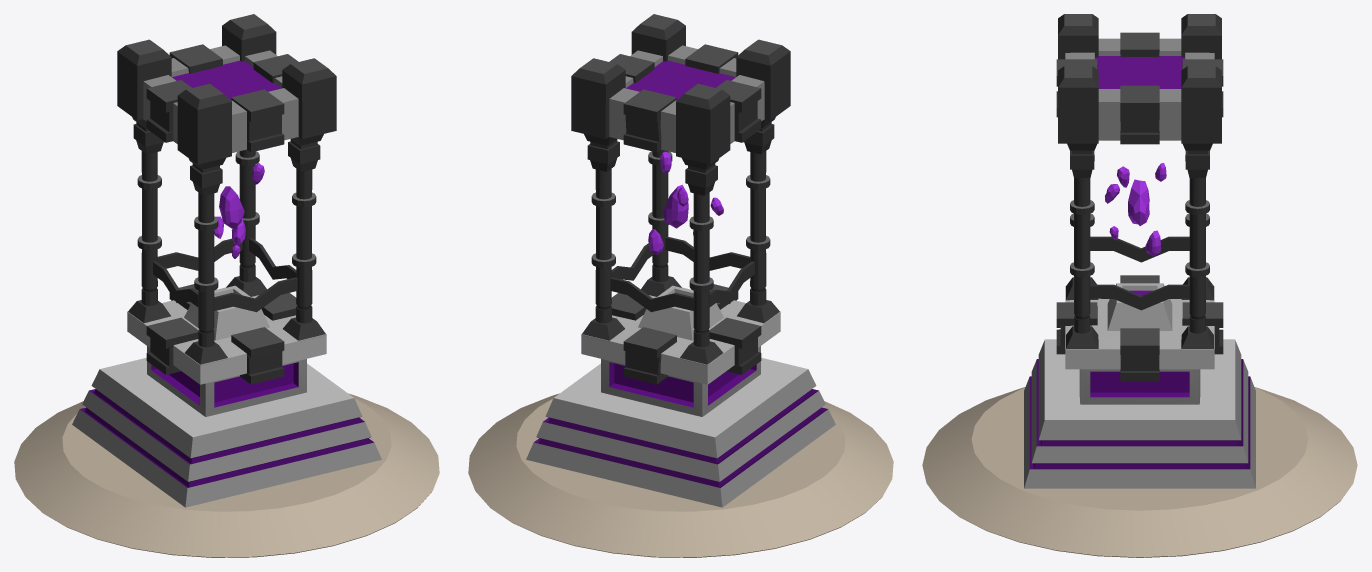
The model's file is Poison Tower Lv4.fbx.
3 views of the same model, side by side, from view 1: azimuth 30°, elevation 25°; view 2: azimuth 150°, elevation 25°; view 3: azimuth 270°, elevation 25° (orthographic). The views are drawn at different scales.
Parts seen in each view (by area): view 1: Poison Tower Lv4, Crystal Main Lv4; view 2: Poison Tower Lv4, Crystal Main Lv4; view 3: Poison Tower Lv4, Crystal Main Lv4.
Part boxes in pixels (x1,y1,x2,y2): Poison Tower Lv4: (14, 14, 439, 557); Crystal Main Lv4: (219, 186, 244, 229); Poison Tower Lv4: (468, 14, 893, 557); Crystal Main Lv4: (663, 184, 688, 228); Poison Tower Lv4: (922, 14, 1357, 557); Crystal Main Lv4: (1128, 179, 1149, 225).
Bounding box in the file's own units: 390 × 415 × 390.
